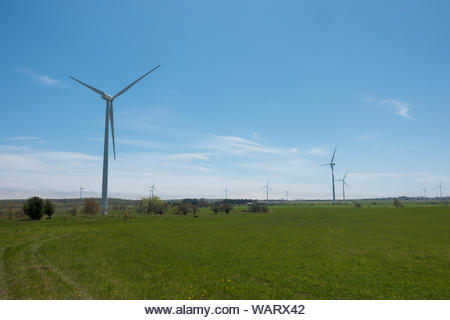working: (64, 63, 164, 163)
